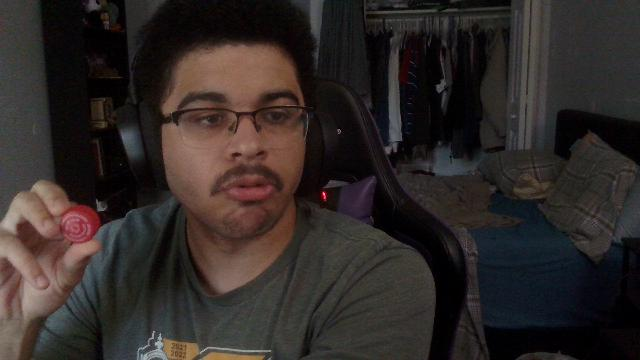cap: (61, 206, 99, 243)
